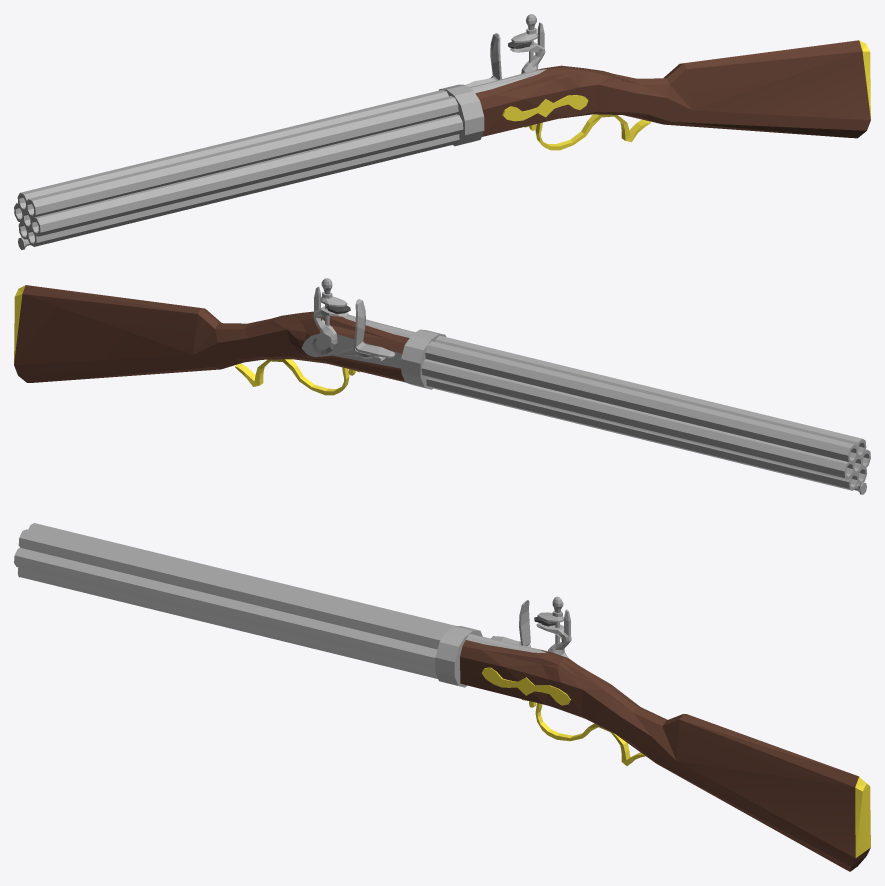
File: NockVolleyGun.fbx
3 views of the same model, one above another, from view 1: azimuth 30°, elevation 25°; view 2: azimuth 150°, elevation 25°; view 3: azimuth 330°, elevation 25° (orthographic).
Parts seen in each view (by area): view 1: NockVolleyGun, Cock, Frizzen; view 2: NockVolleyGun, Cock, Frizzen; view 3: NockVolleyGun, Cock.
Boxes of the visible parts, left/top/right/bottom form: NockVolleyGun: left=14, top=40, right=870, bottom=246; Cock: left=508, top=14, right=545, bottom=73; Frizzen: left=466, top=33, right=501, bottom=87; NockVolleyGun: left=14, top=285, right=870, bottom=490; Cock: left=312, top=278, right=350, bottom=354; Frizzen: left=354, top=299, right=395, bottom=357; NockVolleyGun: left=14, top=523, right=870, bottom=871; Cock: left=534, top=596, right=571, bottom=657.
Size of the model in its own units: 0.0506 by 0.7328 by 0.1544.
